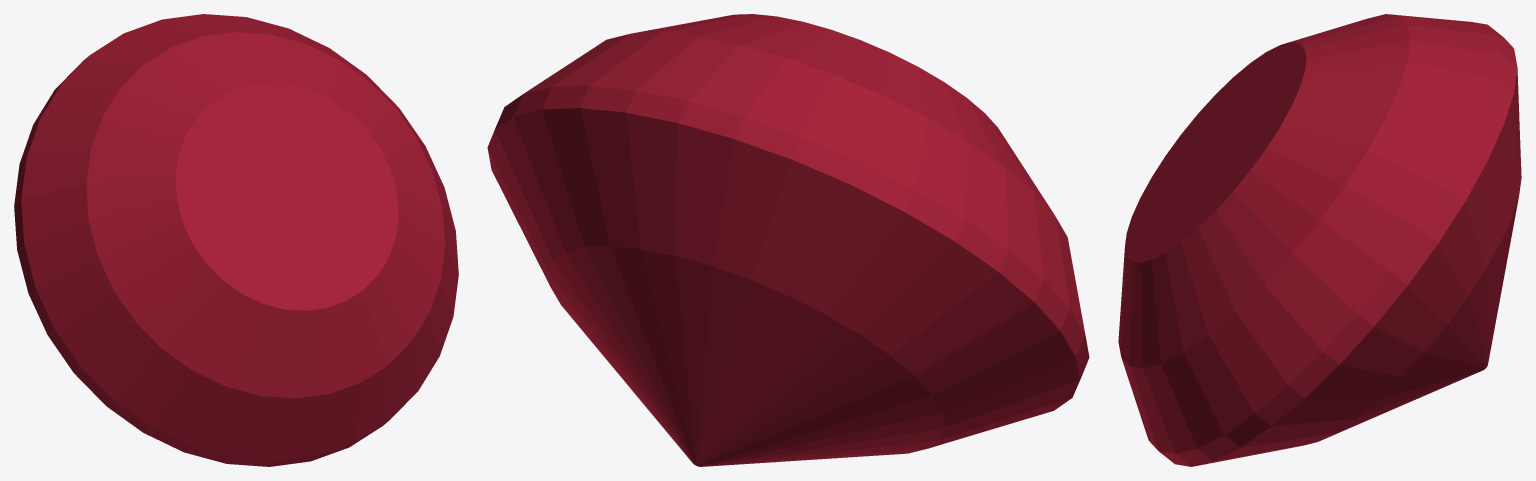
Rendered from garnet.glb.
The picture shows the model from 3 angles, left to right: view 1: azimuth 30°, elevation 25°; view 2: azimuth 150°, elevation 25°; view 3: azimuth 270°, elevation 25°; orthographic projection. The views are drawn at different scales.
Parts seen in each view (by area): view 1: garnet; view 2: garnet; view 3: garnet.
Part boxes in pixels (x1,y1,x2,y2): garnet: (14,14,458,466); garnet: (487,14,1089,466); garnet: (1118,14,1521,466).
Bounding box in the file's own units: 2.1 × 1.69 × 1.57.
